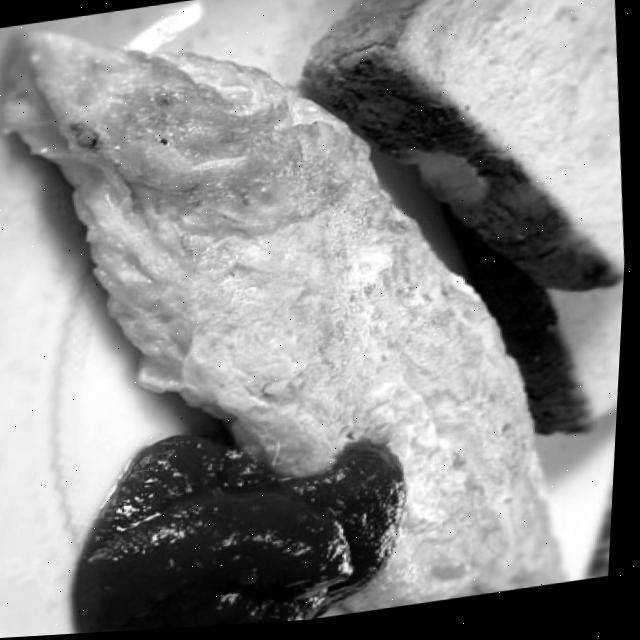鸡蛋料理: (0, 0, 616, 640)
